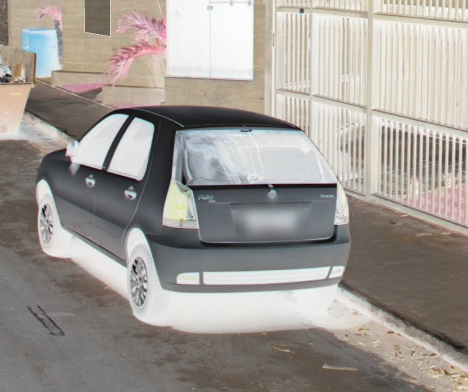car: (31, 102, 354, 324)
